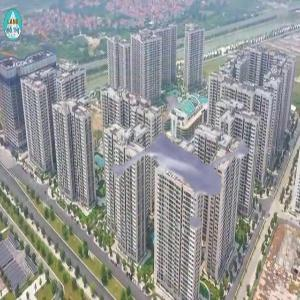drone: (79, 69, 285, 275)
